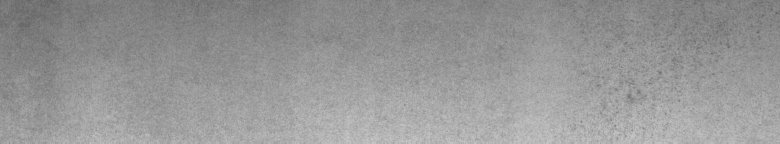ib: (609, 20, 743, 111)
